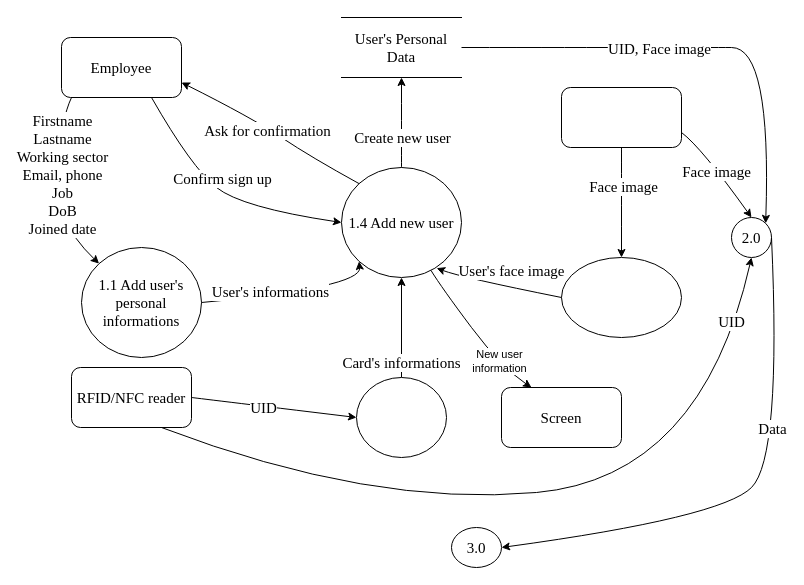
Some shapes in this 804 by 585 pixel diagram are drawn without their labels. Here are the shapes that lost their labels. From the top down, the centre of each, then its label:
At [621,117]: "Camera".
At [621,297]: "1.3 Add face image".
At [401,417]: "1.2 Add card's UID".
